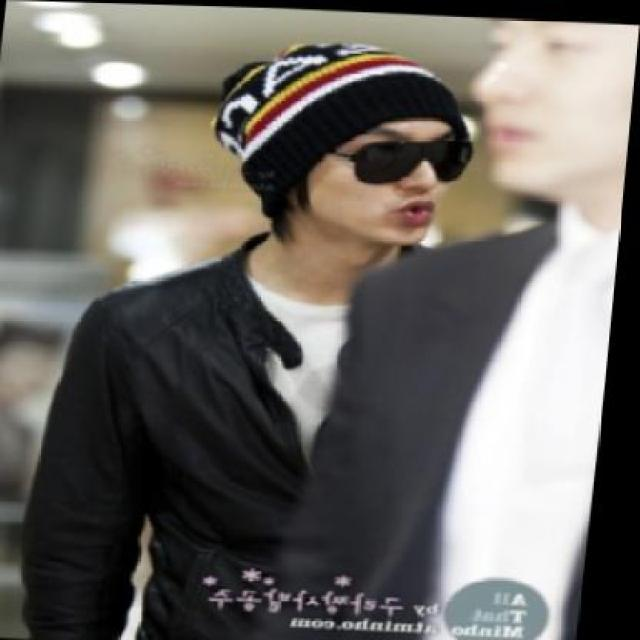hat: (205, 32, 477, 223)
